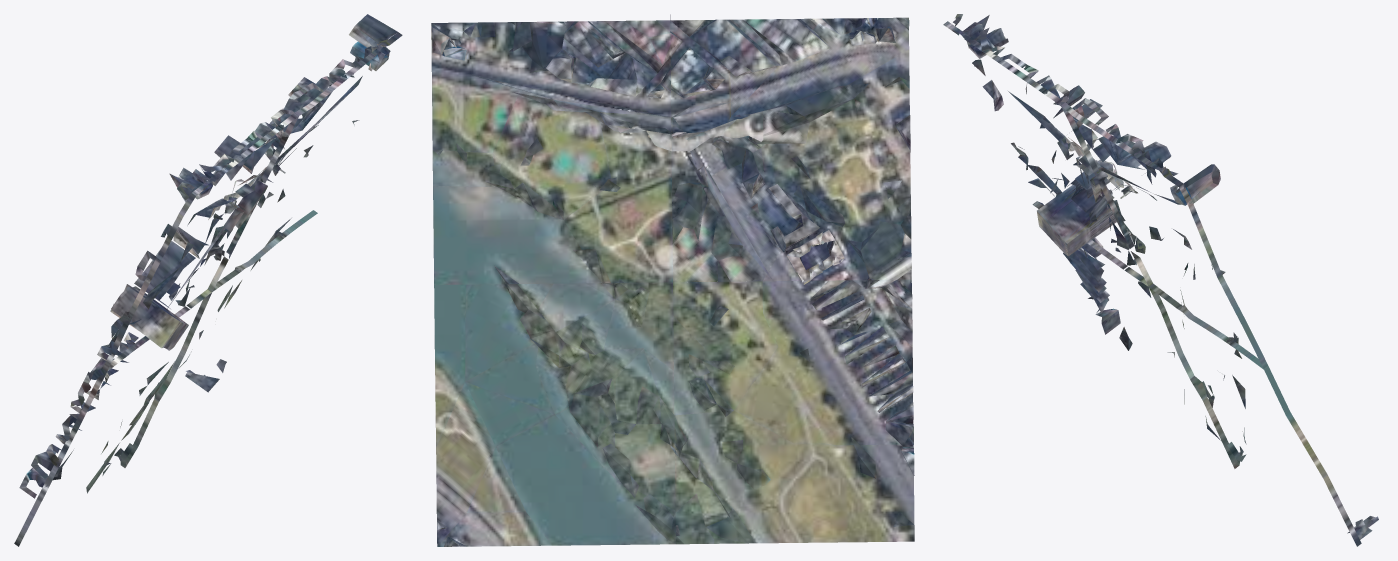
The picture shows the model from 3 angles, left to right: view 1: azimuth 30°, elevation 25°; view 2: azimuth 150°, elevation 25°; view 3: azimuth 270°, elevation 25°; orthographic projection. The views are drawn at different scales.
Size of the model in its own units: 611 by 573 by 542.
2 materials, 2 textured.
